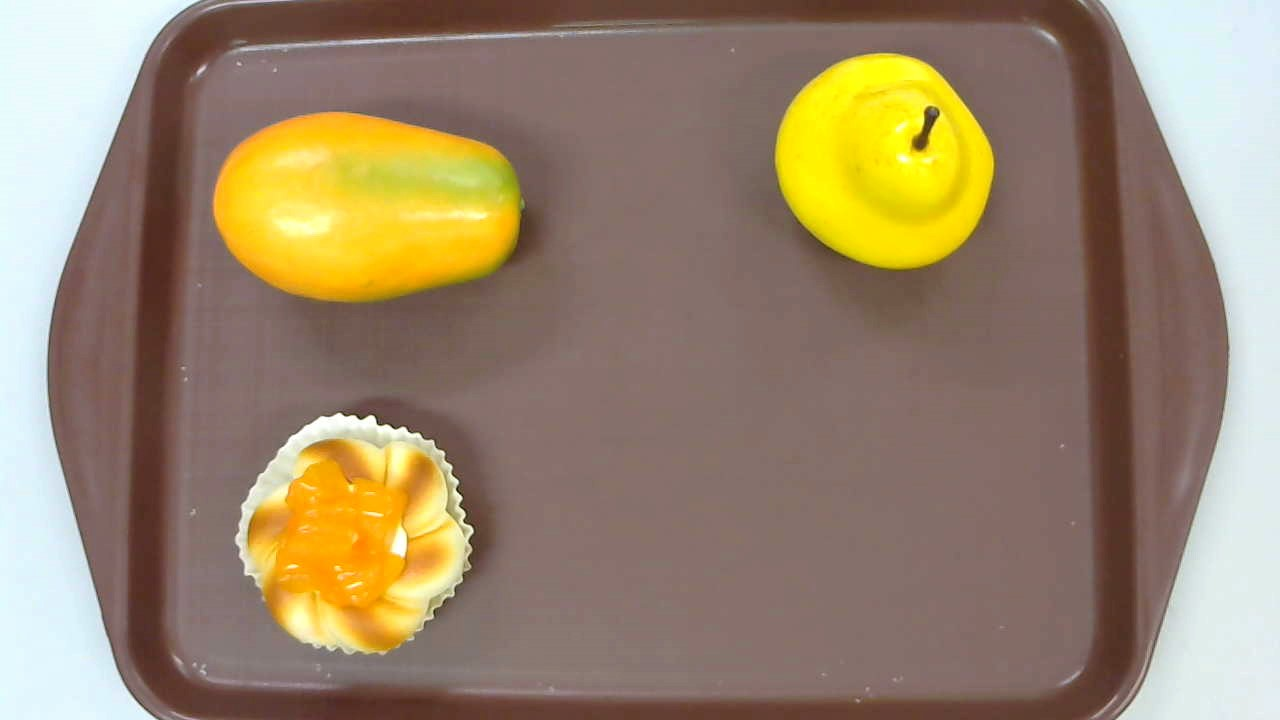mango tart: (235, 412, 474, 655)
papya: (213, 112, 527, 303)
yellow pear: (774, 52, 994, 270)
